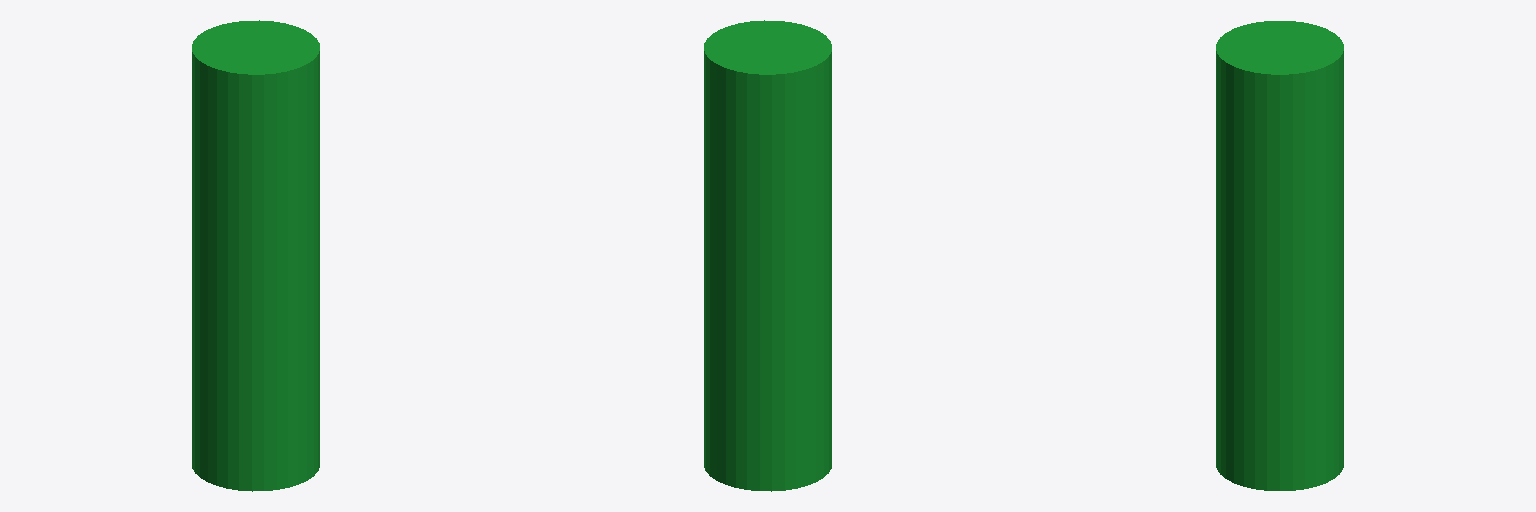
robot.urdf — water_bottle:
<?xml version="1.0"?>
<!-- Simple water bottle: cylinder, r=0.035m, h=0.25m, origin at base -->
<robot name="water_bottle">
  <link name="bottle_base"/>
  <joint name="bottle_base_joint" type="fixed">
    <parent link="bottle_base"/>
    <child link="bottle_link"/>
    <origin xyz="0 0 0" rpy="0 0 0"/>
  </joint>
  <link name="bottle_link">
    <visual>
      <origin xyz="0 0 0.125" rpy="0 0 0"/>
      <geometry>
        <cylinder radius="0.035" length="0.25"/>
      </geometry>
      <material name="bottle_green">
        <color rgba="0.15 0.65 0.25 1.0"/>
      </material>
    </visual>
    <collision>
      <origin xyz="0 0 0.125" rpy="0 0 0"/>
      <geometry>
        <cylinder radius="0.035" length="0.25"/>
      </geometry>
    </collision>
    <inertial>
      <origin xyz="0 0 0.125" rpy="0 0 0"/>
      <mass value="0.5"/>
      <!-- Cylinder inertia: m=0.5, r=0.035, h=0.25 -->
      <!-- Ixx = Iyy = m*(3r^2+h^2)/12 = 0.5*(3*0.001225+0.0625)/12 ≈ 0.00267 -->
      <!-- Izz = m*r^2/2 = 0.5*0.001225/2 ≈ 0.000306 -->
      <inertia ixx="0.00267" ixy="0" ixz="0"
               iyy="0.00267" iyz="0"
               izz="0.000306"/>
    </inertial>
  </link>
</robot>

--- Facts derived from the render (not from the file) ---
The picture shows the robot from 3 angles, left to right: view 1: azimuth 30°, elevation 25°; view 2: azimuth 150°, elevation 25°; view 3: azimuth 270°, elevation 25°; orthographic projection.
Robot: water_bottle — 2 links, 1 joints (1 fixed); root link bottle_base; default pose: all joints at 0.
Links seen in each view (by area): view 1: bottle_link; view 2: bottle_link; view 3: bottle_link.
Link boxes in pixels (x1=…): bottle_link: x1=192, y1=20, x2=319, y2=491; bottle_link: x1=704, y1=20, x2=831, y2=491; bottle_link: x1=1216, y1=21, x2=1343, y2=490.
Bounding box of the posed robot: 0.07 × 0.07 × 0.25 m (x, y, z).
Geometry: primitives only (box / cylinder / sphere), no mesh files.
